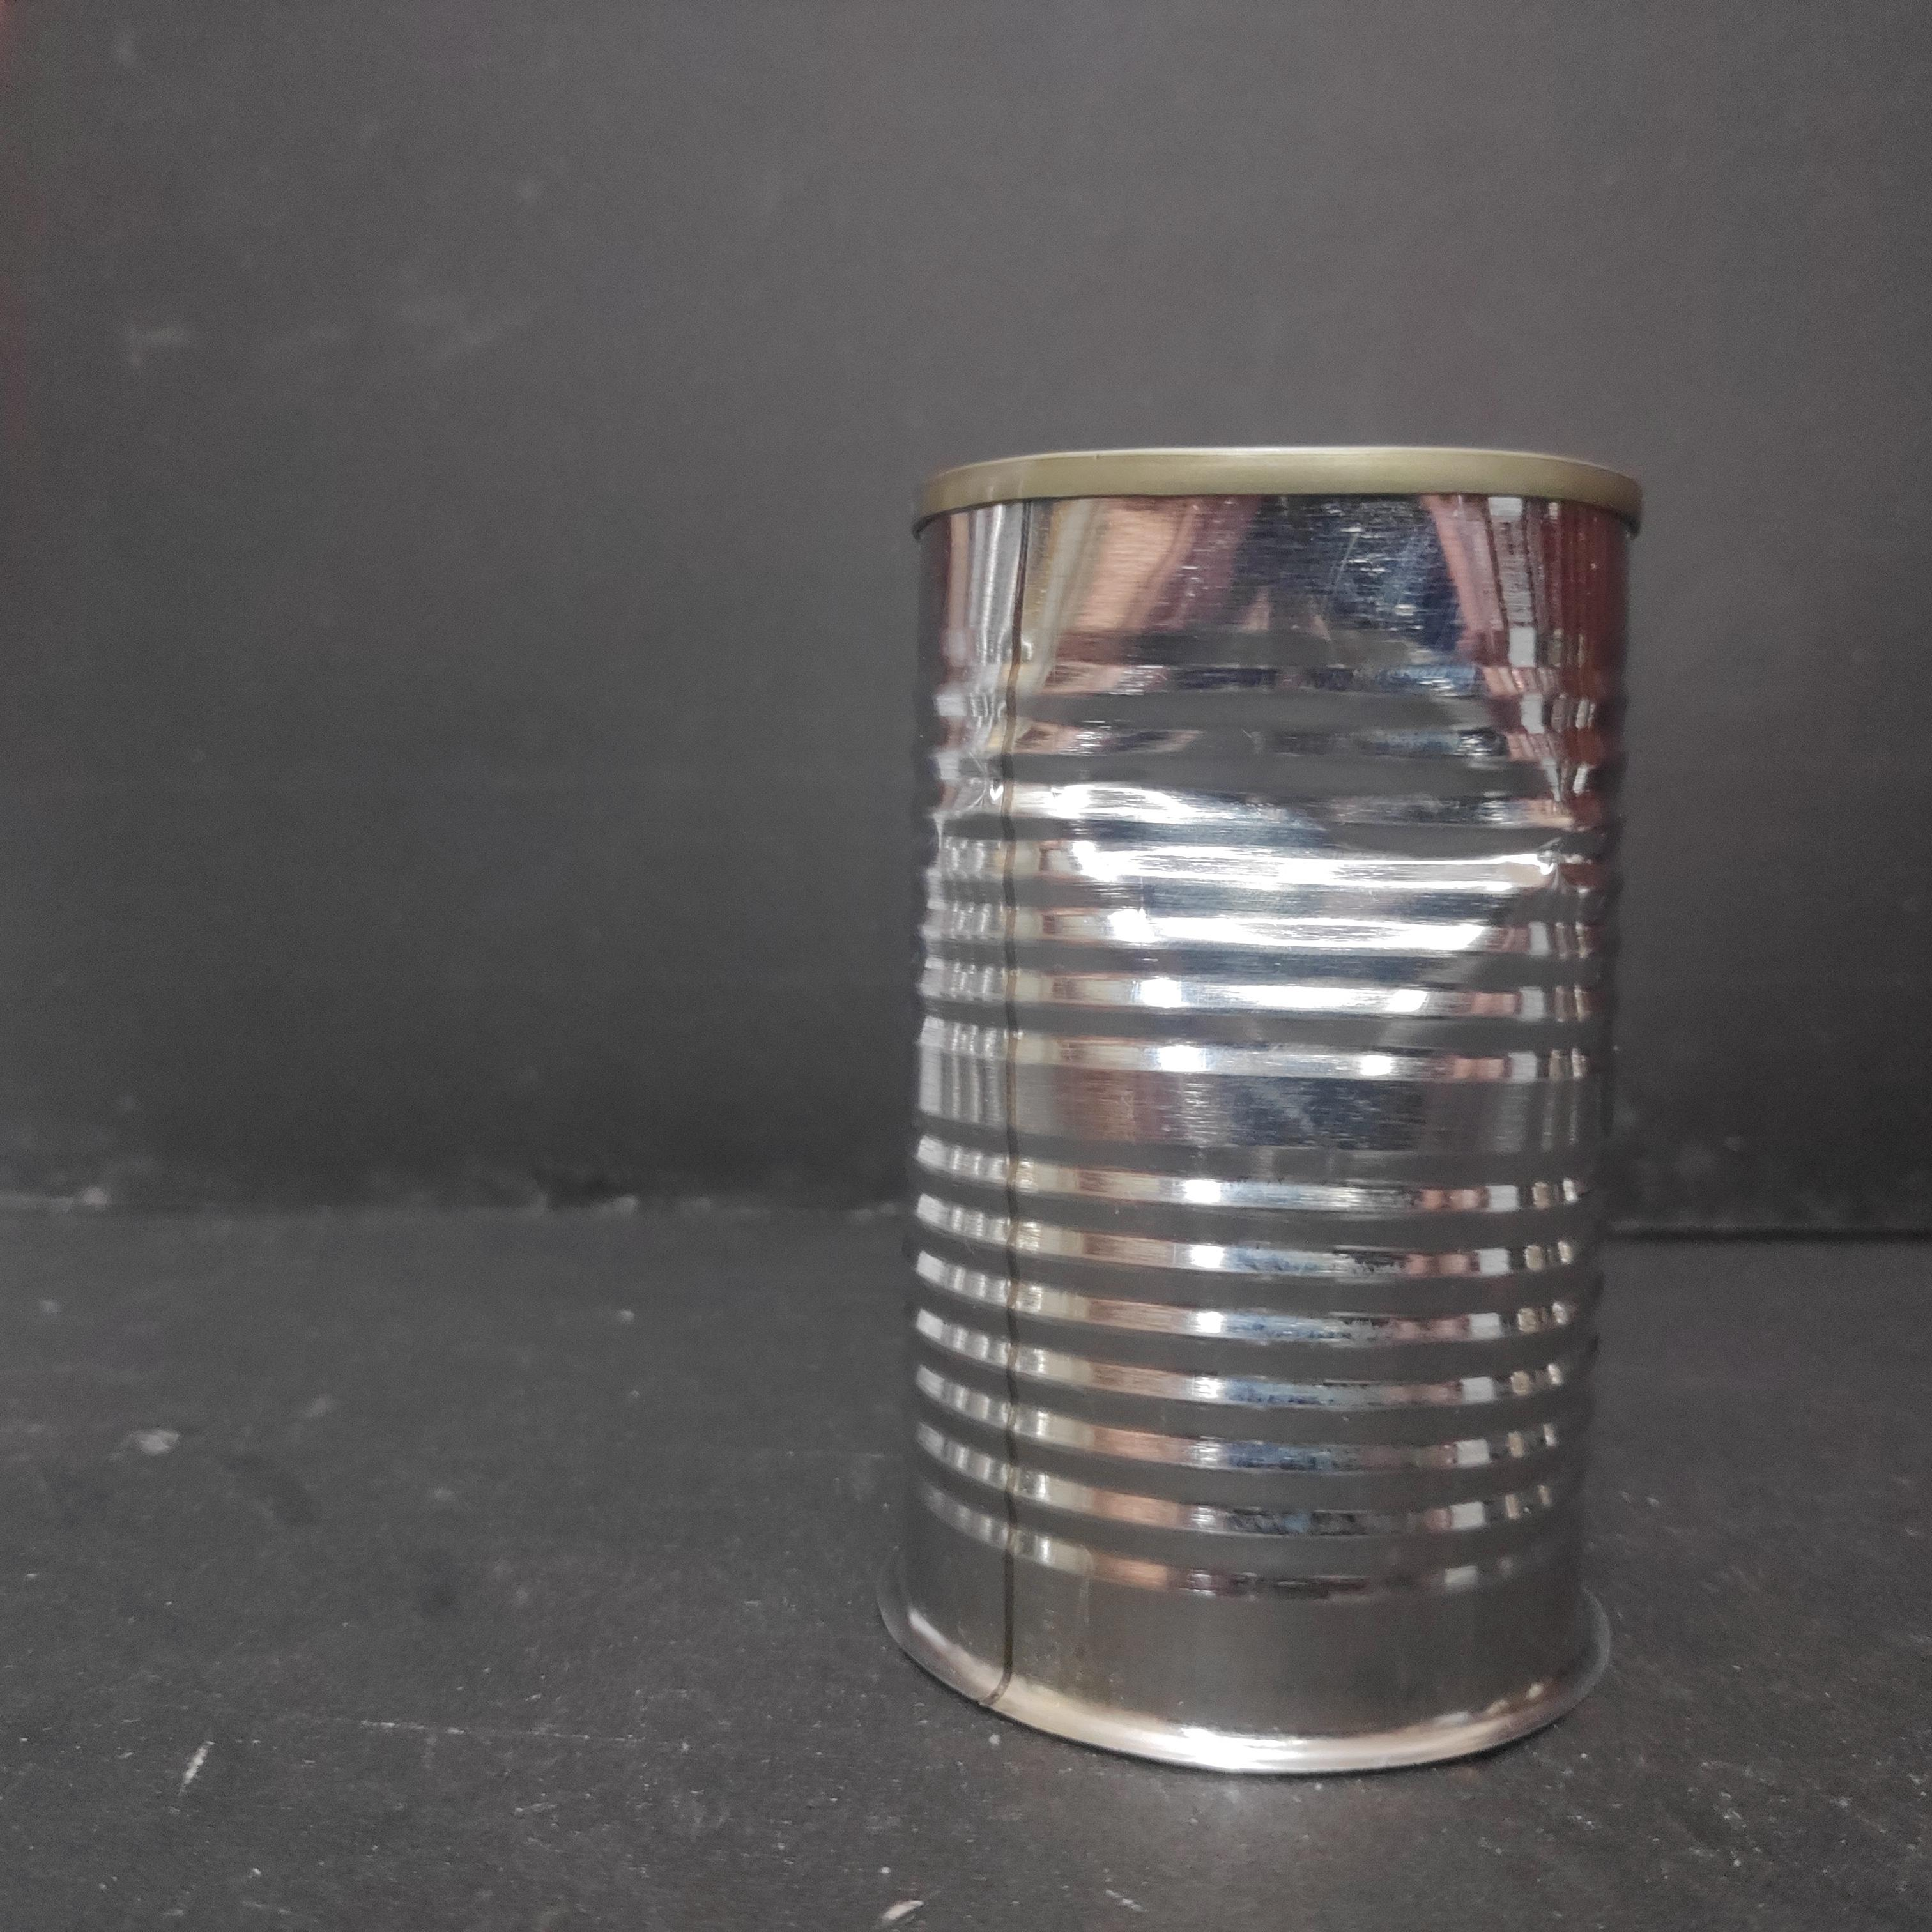Minor Defect: (895, 442, 1642, 1798)
